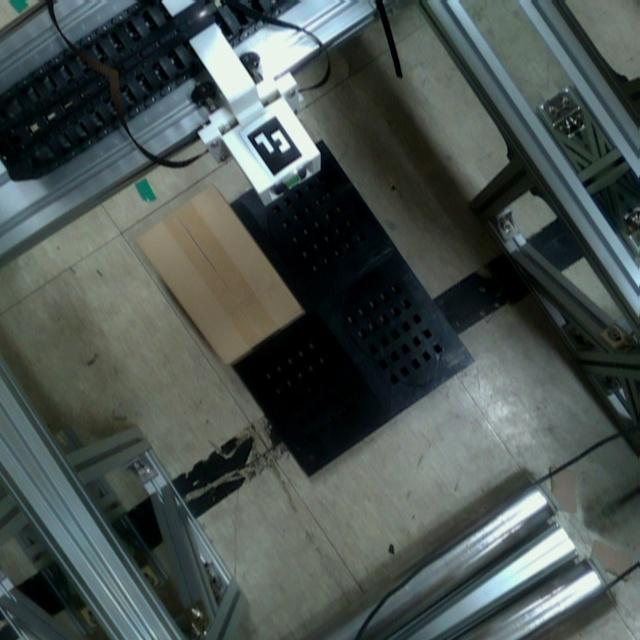box: (126, 178, 311, 368)
